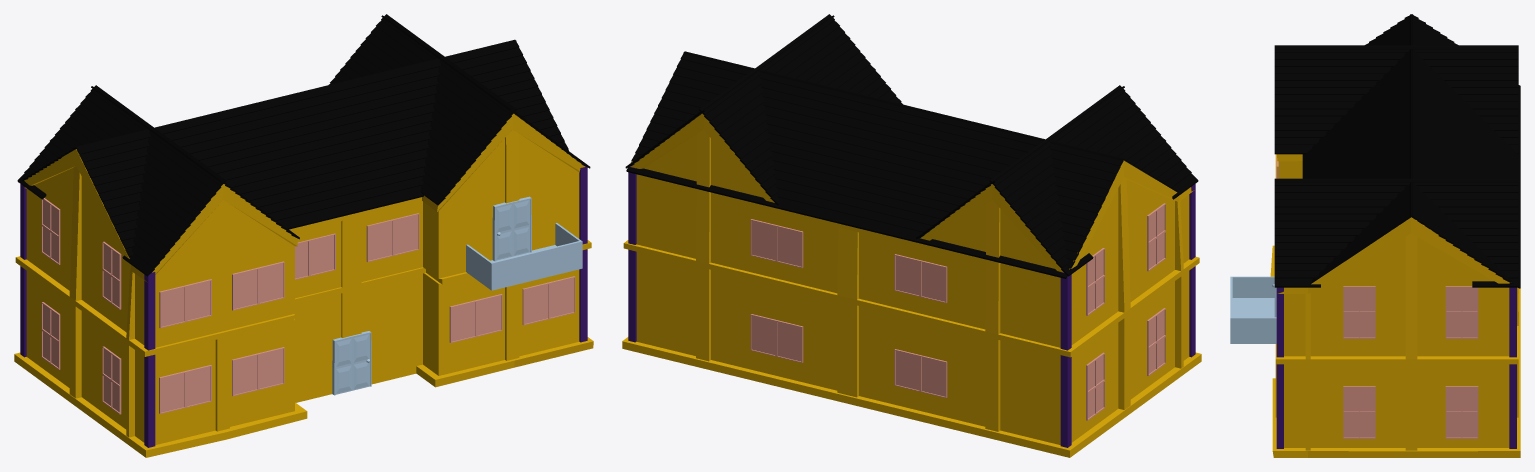
The model's file is Building#4_Variation_2.fbx.
3 views of the same model, side by side, from view 1: azimuth 30°, elevation 25°; view 2: azimuth 150°, elevation 25°; view 3: azimuth 270°, elevation 25° (orthographic). The views are drawn at different scales.
Visible parts, largest first — view 1: Cube, Cube.007, Cube.004, Cube.006, Door.001, Cube.002, Window_Rectangle.006, Door, Window_Rectangle.002, Window_Rectangle.001, Window_Rectangle.012, Window_Rectangle.004 (+9 smaller); view 2: Cube, Cube.008, Cube.004, Cube.006, Cube.002, Window_Rectangle.007, Window_Rectangle.010, Window_Rectangle.008, Window_Rectangle.009, Cube.007, Window_Square.007, Window_Square.004 (+4 smaller); view 3: Cube, Cube.003, Cube.005, Cube.008, Cube.007, Door.001, Cube.002, Window_Square.002, Window_Square.001, Window_Square.005, Window_Square.006, Cube.006 (+1 smaller).
Part boxes in pixels (bbox=[...]): Cube: bbox=[14, 113, 593, 457]; Cube.007: bbox=[75, 39, 568, 259]; Cube.004: bbox=[17, 85, 226, 276]; Cube.006: bbox=[329, 14, 516, 205]; Door.001: bbox=[466, 196, 582, 290]; Cube.002: bbox=[20, 166, 587, 447]; Window_Rectangle.006: bbox=[159, 261, 284, 328]; Door: bbox=[332, 331, 371, 395]; Window_Rectangle.002: bbox=[522, 276, 575, 325]; Window_Rectangle.001: bbox=[449, 294, 502, 342]; Window_Rectangle.012: bbox=[366, 213, 419, 262]; Window_Rectangle.004: bbox=[232, 347, 284, 396]; Cube: bbox=[622, 113, 1201, 457]; Cube.008: bbox=[626, 51, 1124, 278]; Cube.004: bbox=[989, 85, 1198, 276]; Cube.006: bbox=[699, 14, 902, 205]; Cube.002: bbox=[628, 167, 1195, 447]; Window_Rectangle.007: bbox=[894, 254, 947, 303]; Window_Rectangle.010: bbox=[750, 314, 803, 362]; Window_Rectangle.008: bbox=[750, 219, 803, 267]; Window_Rectangle.009: bbox=[894, 349, 947, 397]; Cube.007: bbox=[683, 52, 1177, 192]; Window_Square.007: bbox=[1147, 203, 1165, 271]; Window_Square.004: bbox=[1086, 352, 1104, 420]; Cube: bbox=[1270, 154, 1520, 457]; Cube.003: bbox=[1274, 178, 1518, 287]; Cube.005: bbox=[1274, 45, 1518, 154]; Cube.008: bbox=[1409, 14, 1520, 288]; Cube.007: bbox=[1302, 14, 1413, 283]; Door.001: bbox=[1230, 276, 1276, 343]; Cube.002: bbox=[1276, 287, 1516, 448]; Window_Square.002: bbox=[1445, 386, 1478, 438]; Window_Square.001: bbox=[1445, 286, 1478, 338]; Window_Square.005: bbox=[1343, 286, 1375, 338]; Window_Square.006: bbox=[1343, 386, 1375, 438]; Cube.006: bbox=[1274, 180, 1518, 182].
Bounding box in the file's own units: 1235 × 678 × 736.
